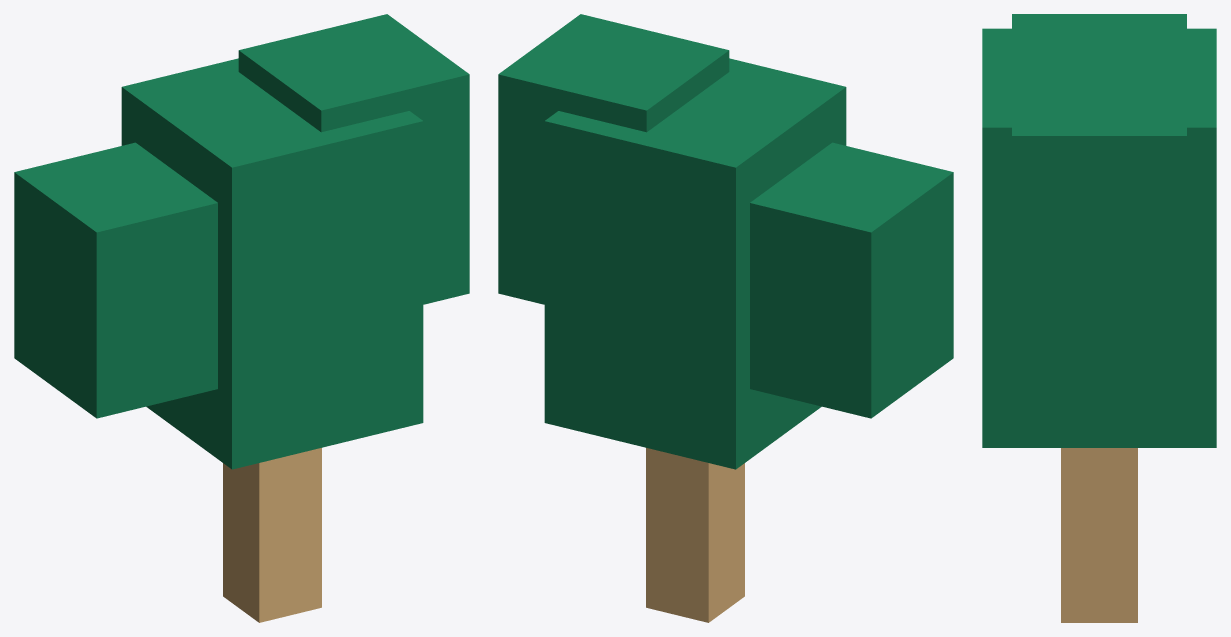
The model's file is Box_Tree_02.fbx.
3 renders of one model, left to right at view 1: azimuth 30°, elevation 25°; view 2: azimuth 150°, elevation 25°; view 3: azimuth 270°, elevation 25°, orthographic. The views are drawn at different scales.
Parts seen in each view (by area): view 1: Box_Tree_02_1, Box_Tree_01_2; view 2: Box_Tree_02_1, Box_Tree_01_2; view 3: Box_Tree_02_1, Box_Tree_01_2.
Part boxes in pixels (x1,y1,x2,y2): Box_Tree_02_1: (14, 14, 469, 469); Box_Tree_01_2: (223, 448, 321, 622); Box_Tree_02_1: (498, 14, 953, 469); Box_Tree_01_2: (646, 448, 744, 622); Box_Tree_02_1: (982, 14, 1216, 447); Box_Tree_01_2: (1061, 448, 1137, 622).
Size of the model in its own units: 45.5 by 60.59 by 23.34.
